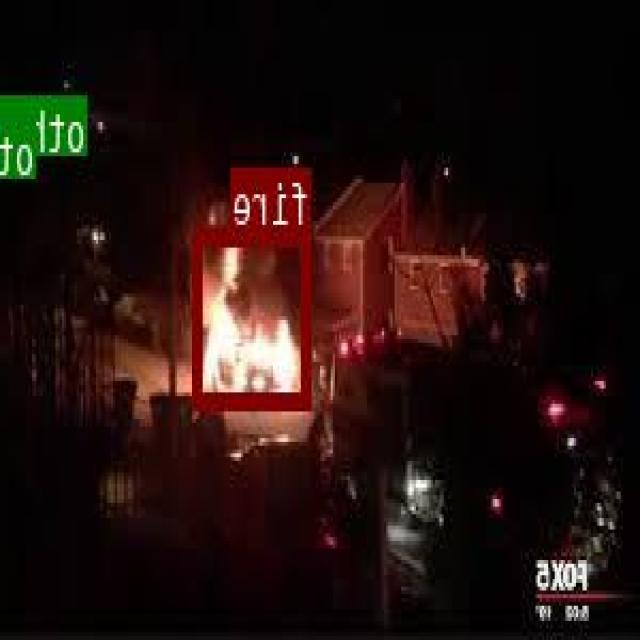fire: (194, 228, 313, 405)
other: (71, 92, 89, 121), (23, 115, 37, 146)
